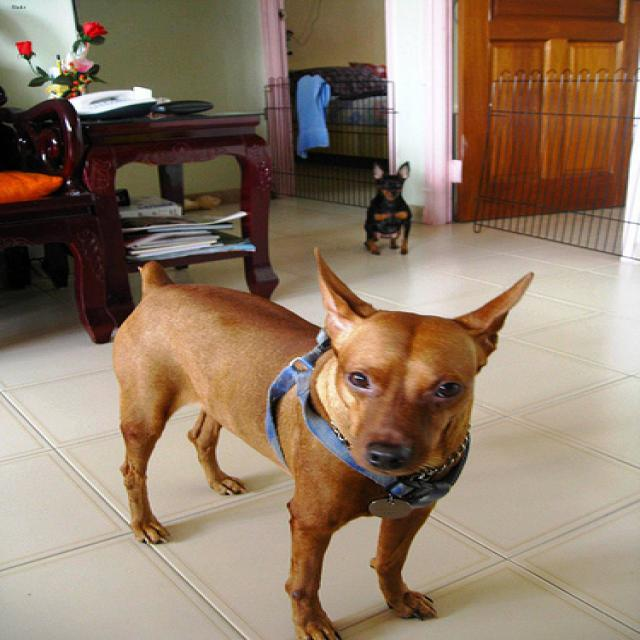dog: (310, 245, 530, 472)
